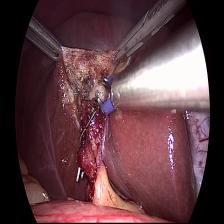Bipolar: (94, 74, 125, 115)
Grasper: (110, 0, 167, 65), (22, 15, 64, 66)
